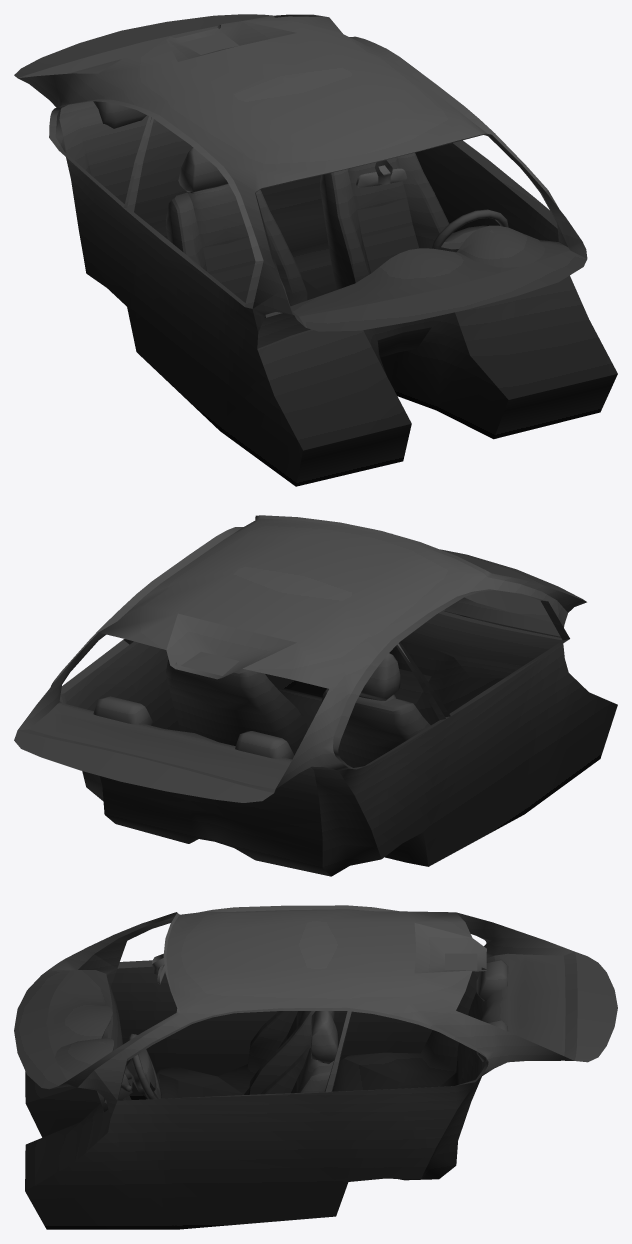
File: e92_salon.fbx
3 renders of one model, top to bottom at view 1: azimuth 30°, elevation 25°; view 2: azimuth 150°, elevation 25°; view 3: azimuth 270°, elevation 25°, orthographic. The views are drawn at different scales.
Parts seen in each view (by area): view 1: E92_Car_interior_tier_s; view 2: E92_Car_interior_tier_s; view 3: E92_Car_interior_tier_s.
Part boxes in pixels (left/top/right/bottom): E92_Car_interior_tier_s: left=14, top=14, right=617, bottom=486; E92_Car_interior_tier_s: left=14, top=515, right=617, bottom=876; E92_Car_interior_tier_s: left=14, top=905, right=617, bottom=1229.
Size of the model in its own units: 1.54 by 1.13 by 2.81.
